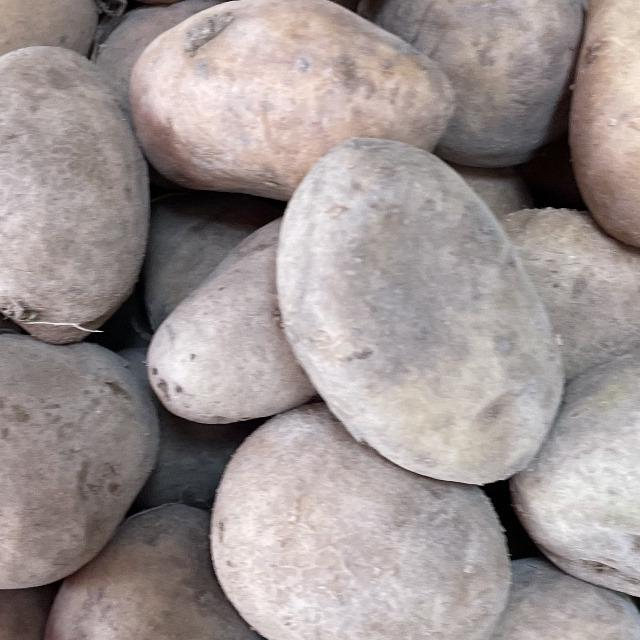potato: (242, 115, 578, 492), (122, 0, 460, 205), (0, 20, 175, 352), (0, 307, 175, 600), (522, 270, 640, 595), (555, 0, 640, 267)
